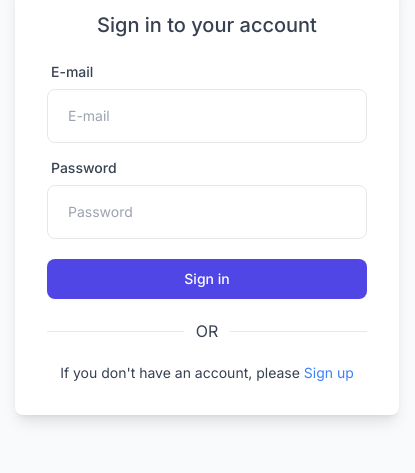
Scenario: SignInForm › shows an error message when the sign-in fails
Type "test@example.com" into the field labelled "E-mail".
click(207, 116); type("test@example.com")  # box [47,89,367,143]
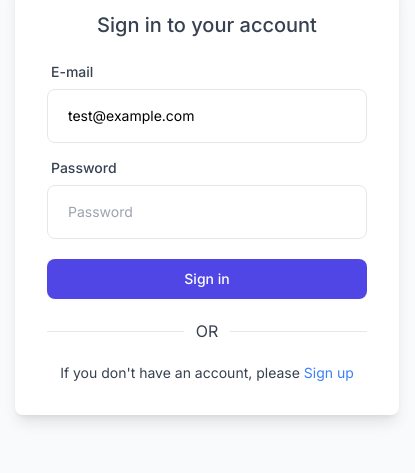
Type "password" into the password field labelled "Password".
click(207, 212); type("password")  # box [47,185,367,239]
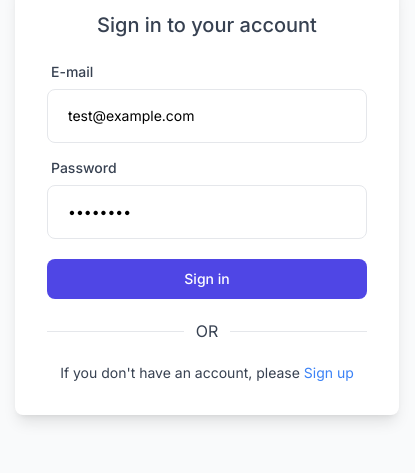
Click the button "Sign in".
click(207, 279)  # box [47,259,367,299]
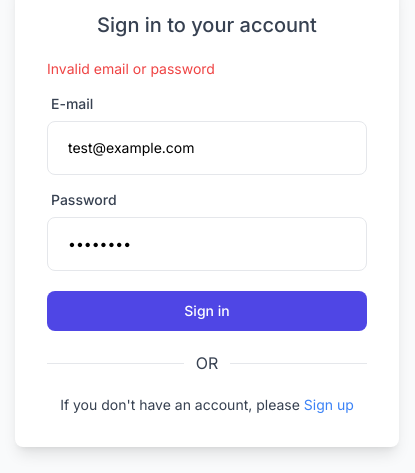
Expected: the text "Invalid email or password" is shown, [47,60,215,77]
